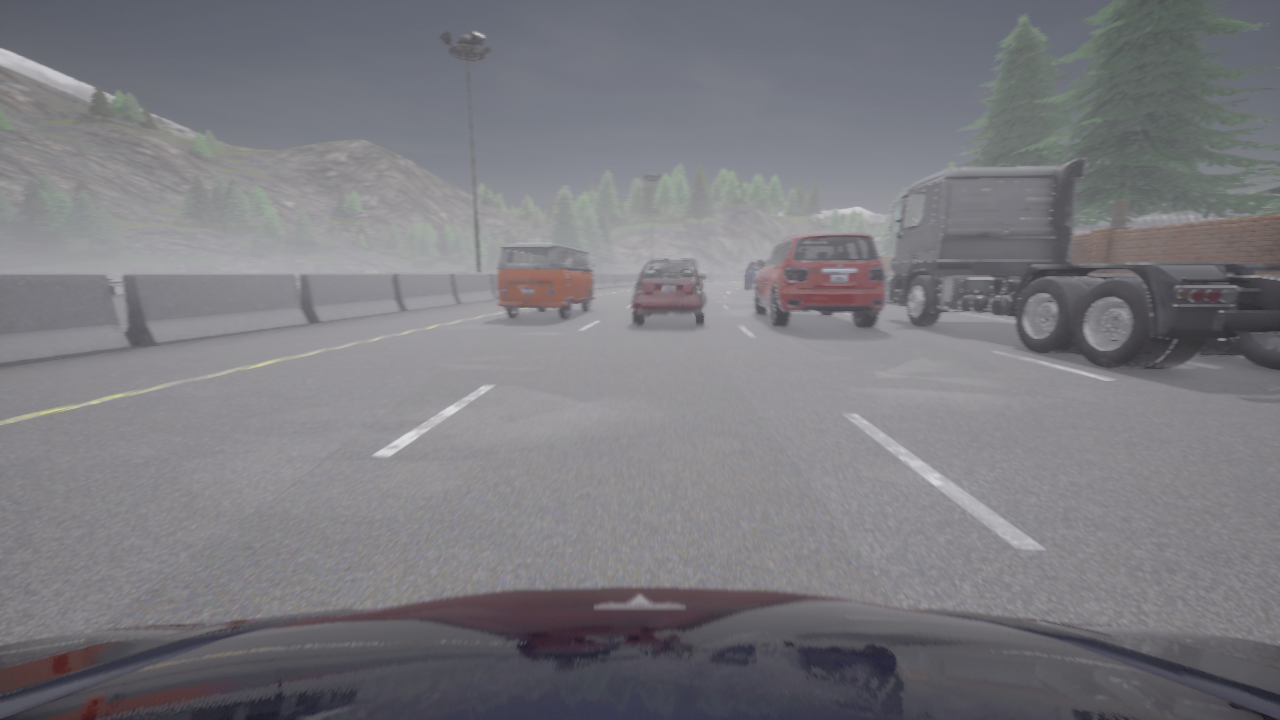cyclist: (0, 588, 1279, 719), (887, 159, 1279, 370), (754, 233, 885, 328), (497, 242, 595, 319), (633, 259, 705, 325), (745, 262, 766, 289), (666, 257, 698, 273)
